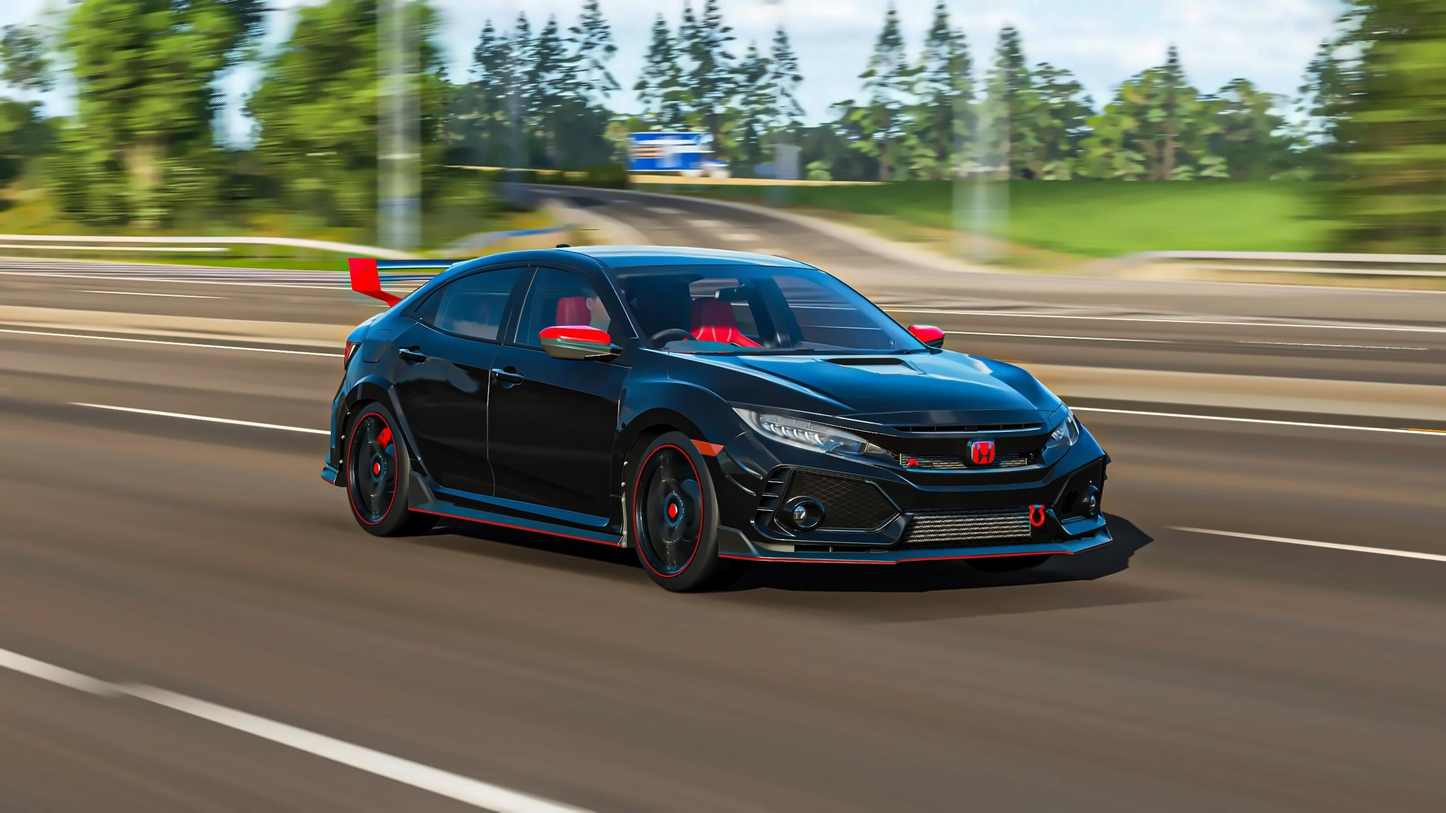Car hood: (657, 342, 1066, 435)
Driver-s door - -F-R-: (476, 250, 627, 550)
Fender - -F-R-: (603, 345, 743, 545)
Fender - -R-R-: (321, 267, 429, 498)
Front bumper: (691, 439, 1121, 572)
Headlight - -L-: (1049, 407, 1083, 458)
Headlight - -R-: (732, 402, 896, 469)
Passenger-s door - -R-R-: (376, 250, 538, 550)
Rear bumper: (317, 395, 361, 485)
Rear light - -R-: (336, 336, 357, 382)
Side bumper - -R-: (400, 481, 640, 570)
Side mirror - -L-: (908, 319, 953, 353)
Side mirror - -R-: (535, 326, 617, 363)
